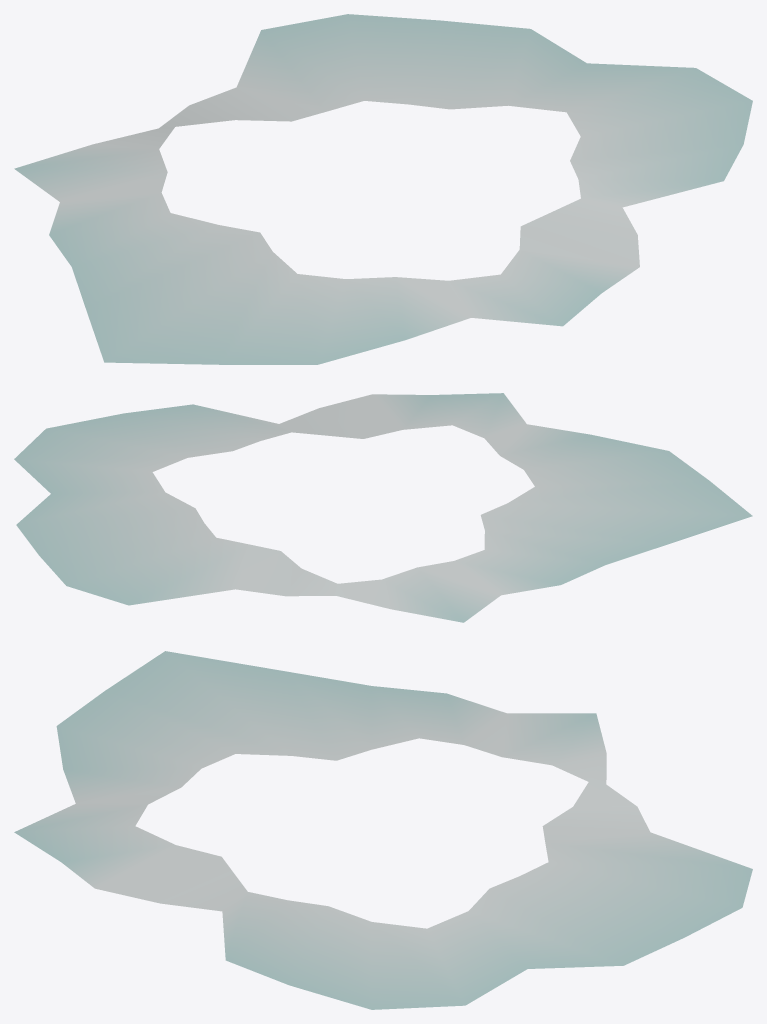
File: Foam_Ring.glb
The picture shows the model from 3 angles, top to bottom: view 1: azimuth 30°, elevation 25°; view 2: azimuth 150°, elevation 25°; view 3: azimuth 270°, elevation 25°; orthographic projection. The views are drawn at different scales.
Parts seen in each view (by area): view 1: Foam_Ring; view 2: Foam_Ring; view 3: Foam_Ring.
Boxes of the visible parts, x1,y1,x2,y2 form: Foam_Ring: (14,14,752,364); Foam_Ring: (14,393,752,622); Foam_Ring: (14,651,752,1009).
Bounding box in the file's own units: 3.75 × 0.03 × 3.27.
